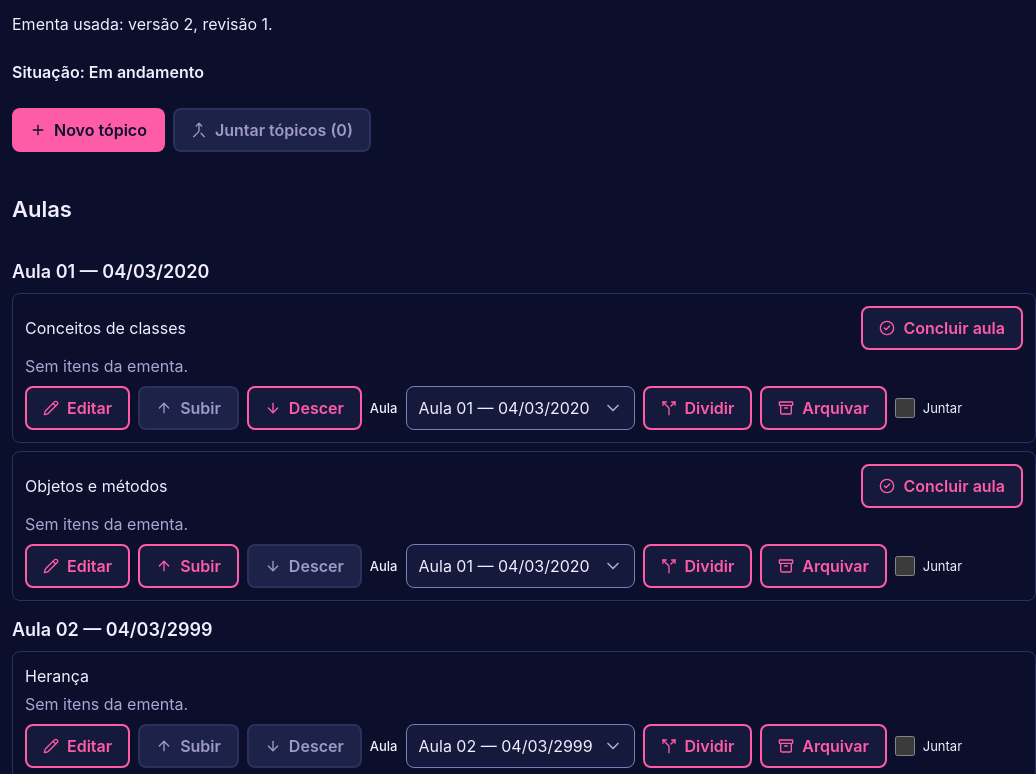
Test: 004/US9 aula concluída no planejamento (FR-056 – FR-058) › 004/US9-1 "Concluir aula" num tópico de aula passada envia a conclusão e mostra a marca verde
Click the button with aria-label "Concluir aula de Conceitos de classes" at coordinates (942, 328), box 861,306 -> 1023,350
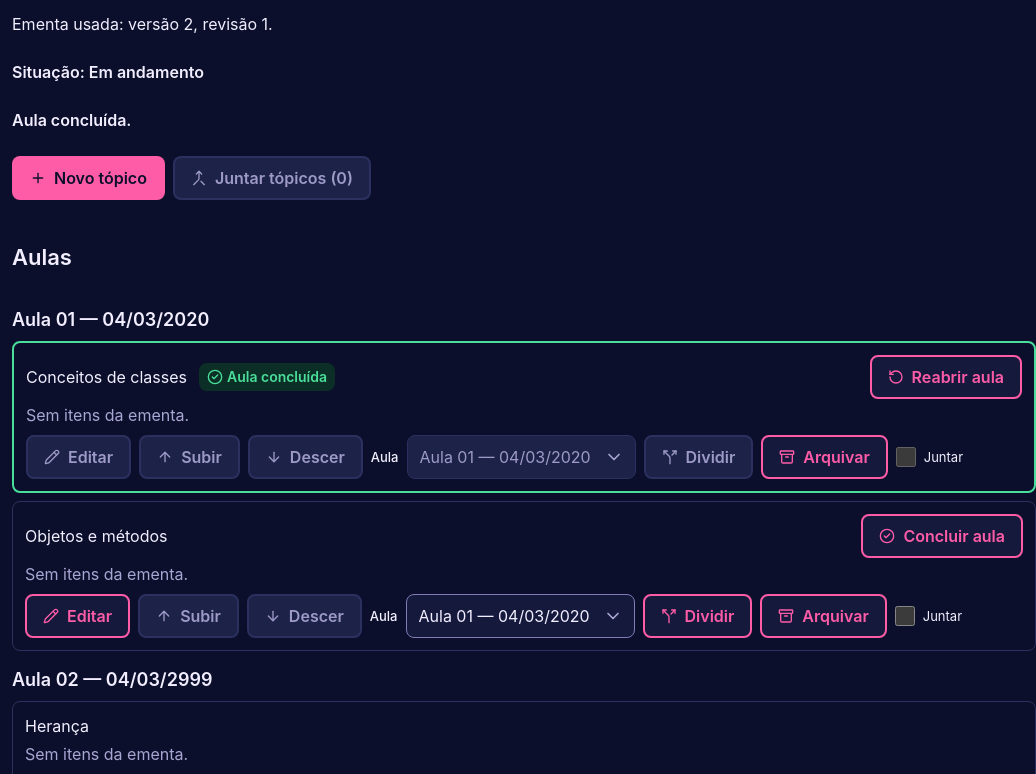
Result: the text "Aula concluída." is shown at 12,110 -> 132,130
Result: the text "Aula concluída" is shown at 199,362 -> 335,390
Result: the button with aria-label "Reabrir aula de Conceitos de classes" is shown at 870,354 -> 1022,398
